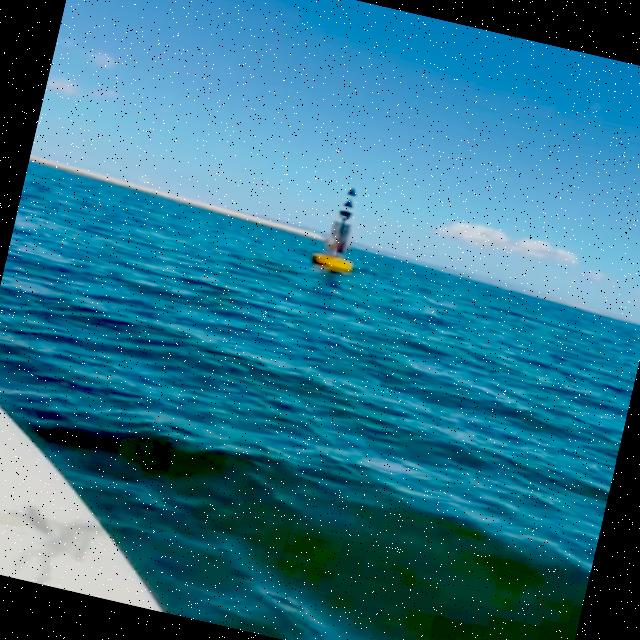marque: (312, 182, 374, 277)
